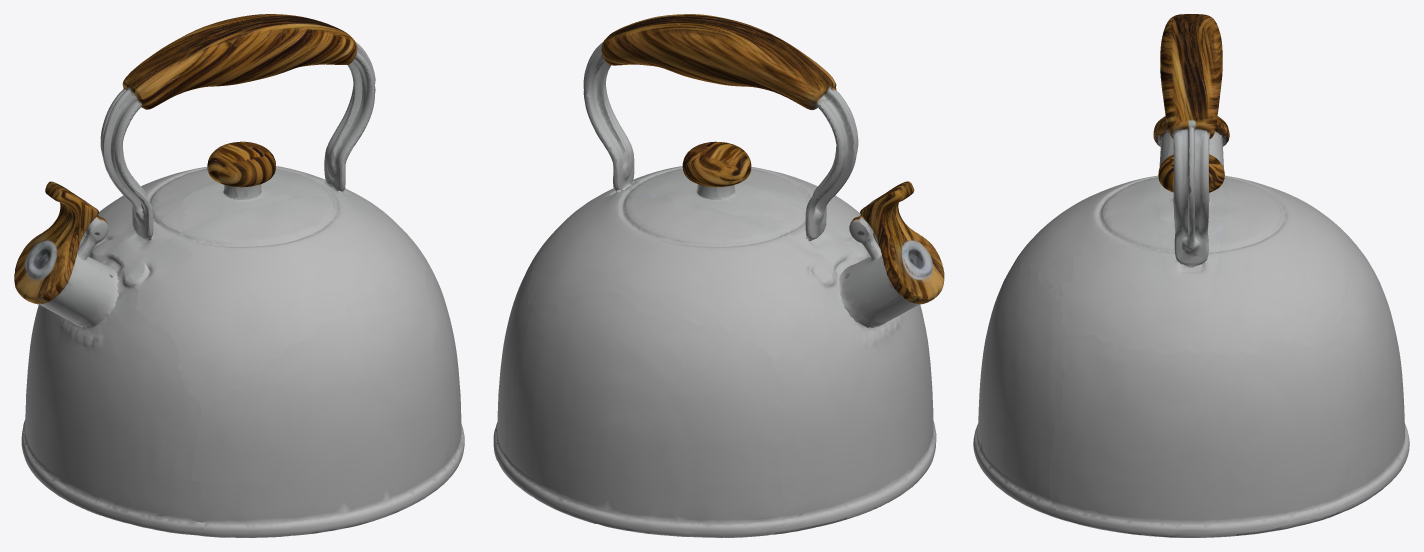
The model's file is kettle-raw.glb.
3 views of the same model, side by side, from view 1: azimuth 30°, elevation 25°; view 2: azimuth 150°, elevation 25°; view 3: azimuth 270°, elevation 25° (orthographic). The views are drawn at different scales.
Visible parts, largest first — view 1: textured_mesh.obj; view 2: textured_mesh.obj; view 3: textured_mesh.obj.
Part boxes in pixels (<box>): textured_mesh.obj: <box>14,14,464,537</box>; textured_mesh.obj: <box>493,14,944,537</box>; textured_mesh.obj: <box>973,14,1409,537</box>.
Bounding box in the file's own units: 1.99 × 1.95 × 1.87.
1 material, 1 textured.
